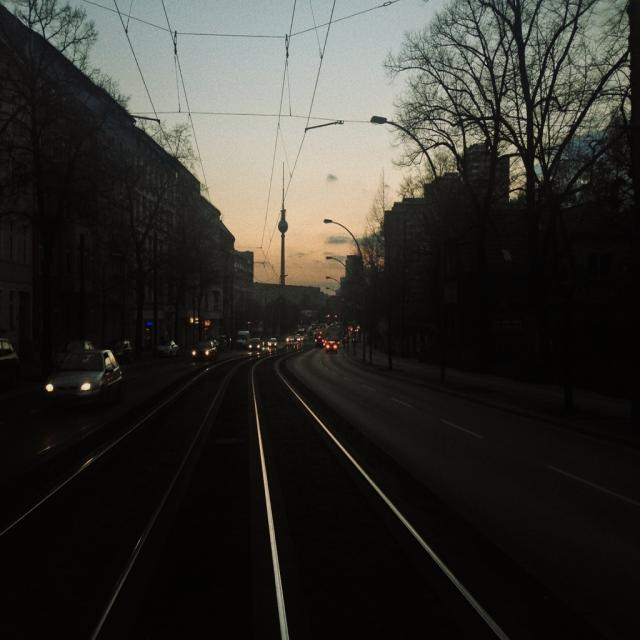car: (37, 341, 126, 402), (191, 341, 216, 354), (246, 336, 261, 350), (326, 339, 337, 350), (268, 336, 276, 345)
